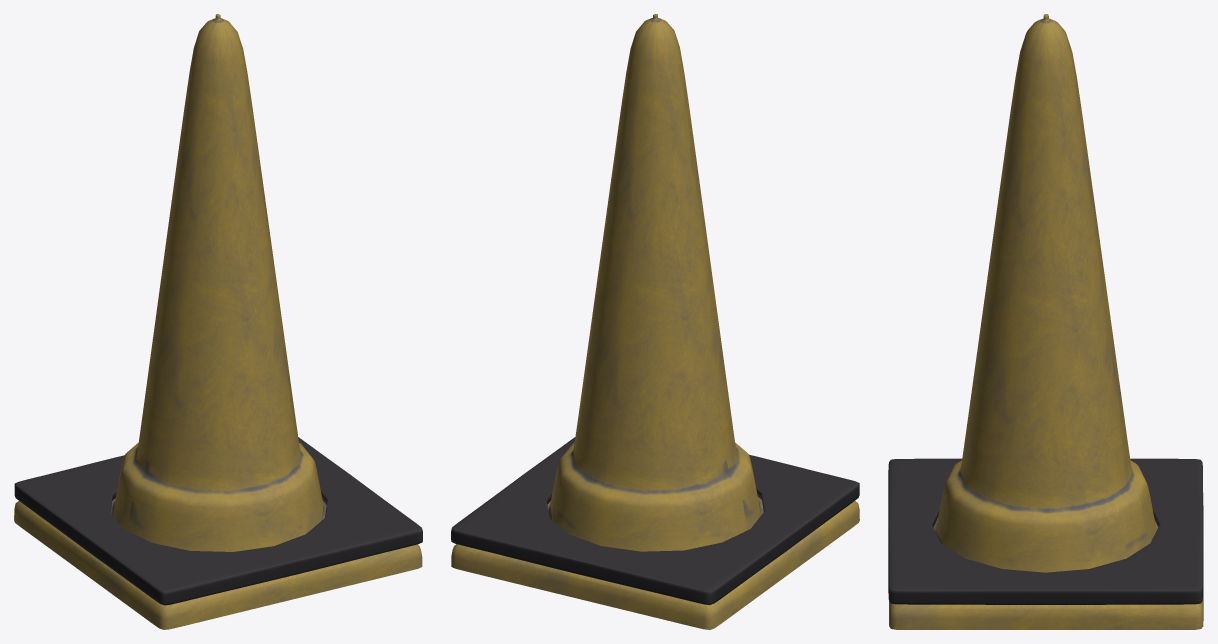
File: ColorCone_Basic_Dirty_Yellow.fbx
3 renders of one model, left to right at view 1: azimuth 30°, elevation 25°; view 2: azimuth 150°, elevation 25°; view 3: azimuth 270°, elevation 25°, orthographic. The views are drawn at different scales.
Parts seen in each view (by area): view 1: ColorCone_Basic_Dirty_Yellow; view 2: ColorCone_Basic_Dirty_Yellow; view 3: ColorCone_Basic_Dirty_Yellow.
Part boxes in pixels (box(x1,y1,x2,y2)): ColorCone_Basic_Dirty_Yellow: box(14, 14, 422, 629); ColorCone_Basic_Dirty_Yellow: box(451, 14, 859, 629); ColorCone_Basic_Dirty_Yellow: box(888, 14, 1203, 629).
Bounding box in the file's own units: 38.04 × 38.06 × 73.14.
Materials: 1 (1 with a texture image).
